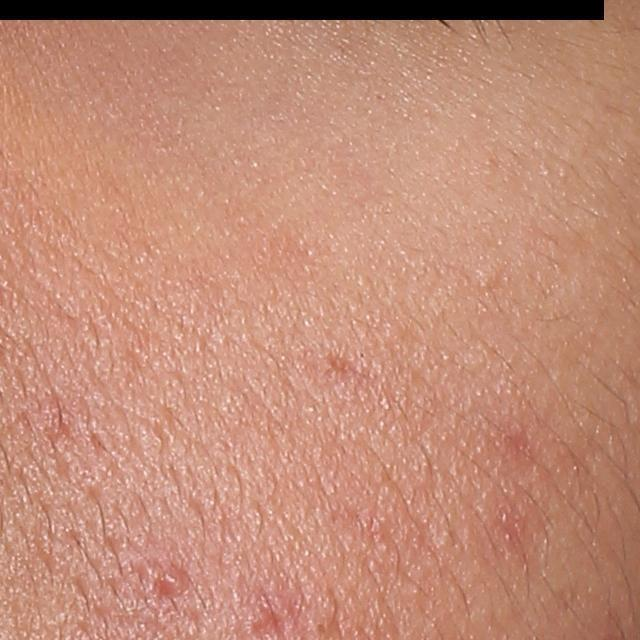comedo: (477, 271, 503, 295), (310, 616, 332, 638)
papule: (147, 554, 193, 602)
